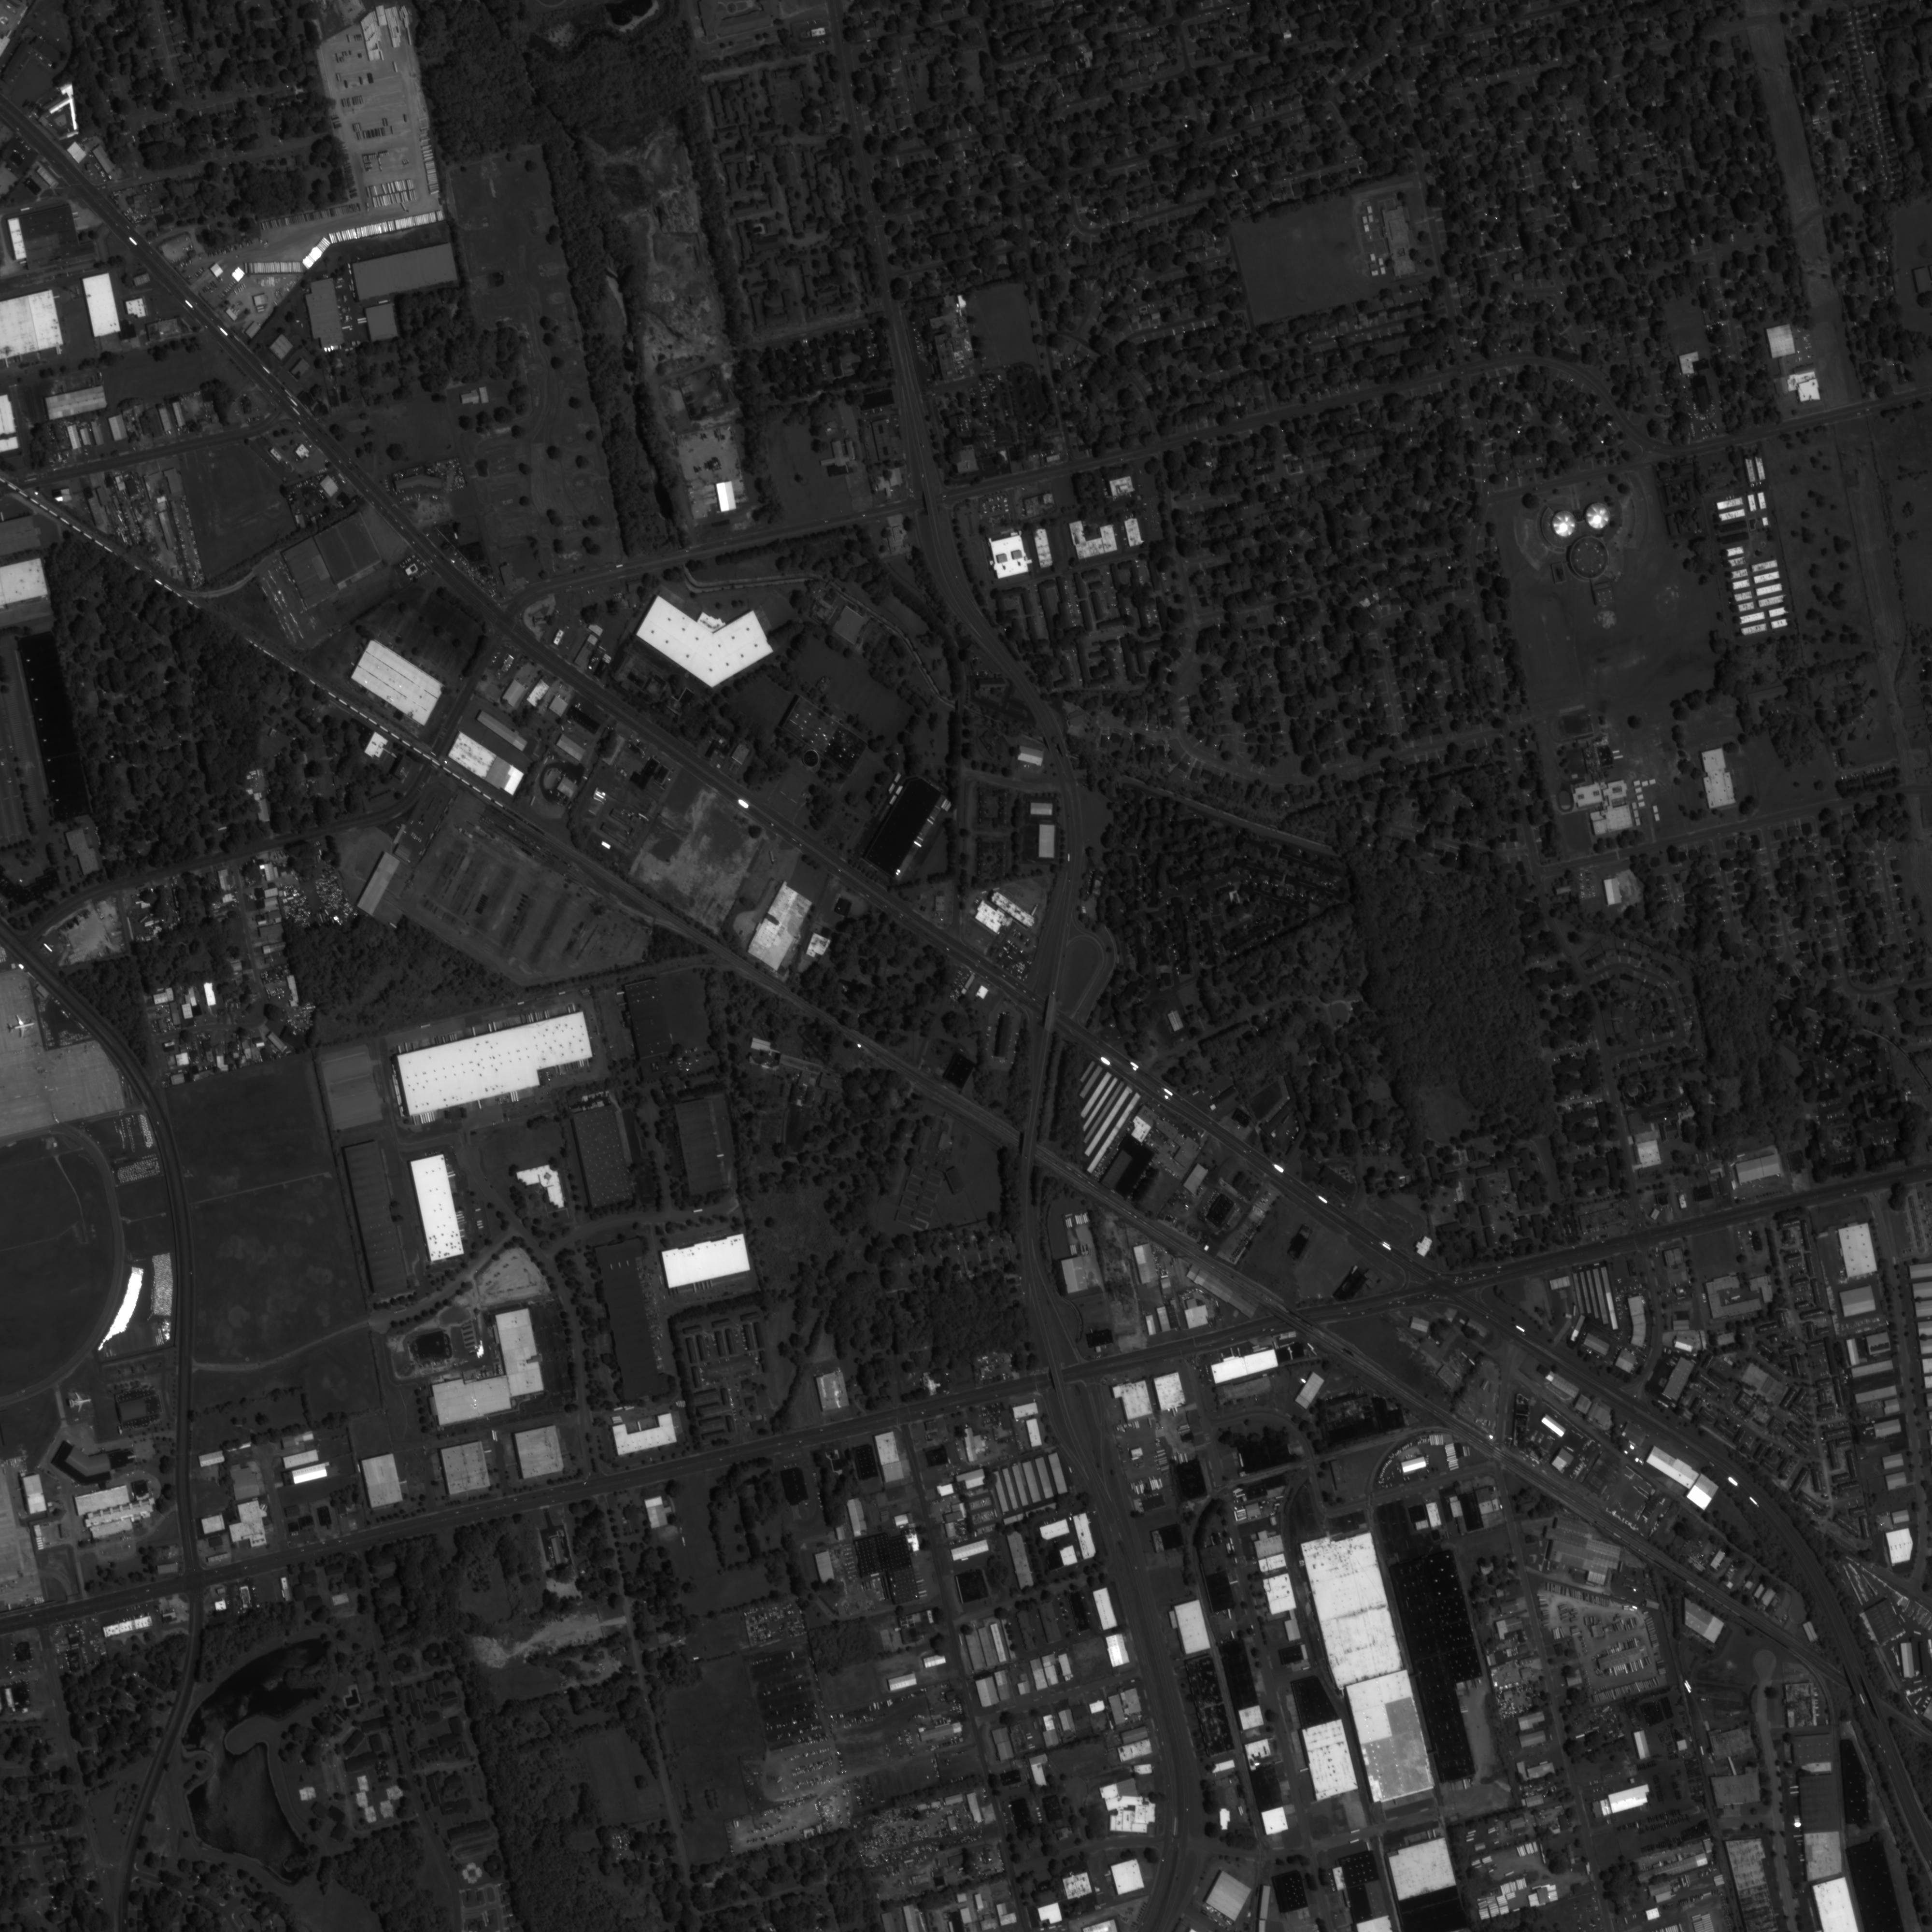plane: (5, 1012, 36, 1040), (66, 1389, 93, 1416)
